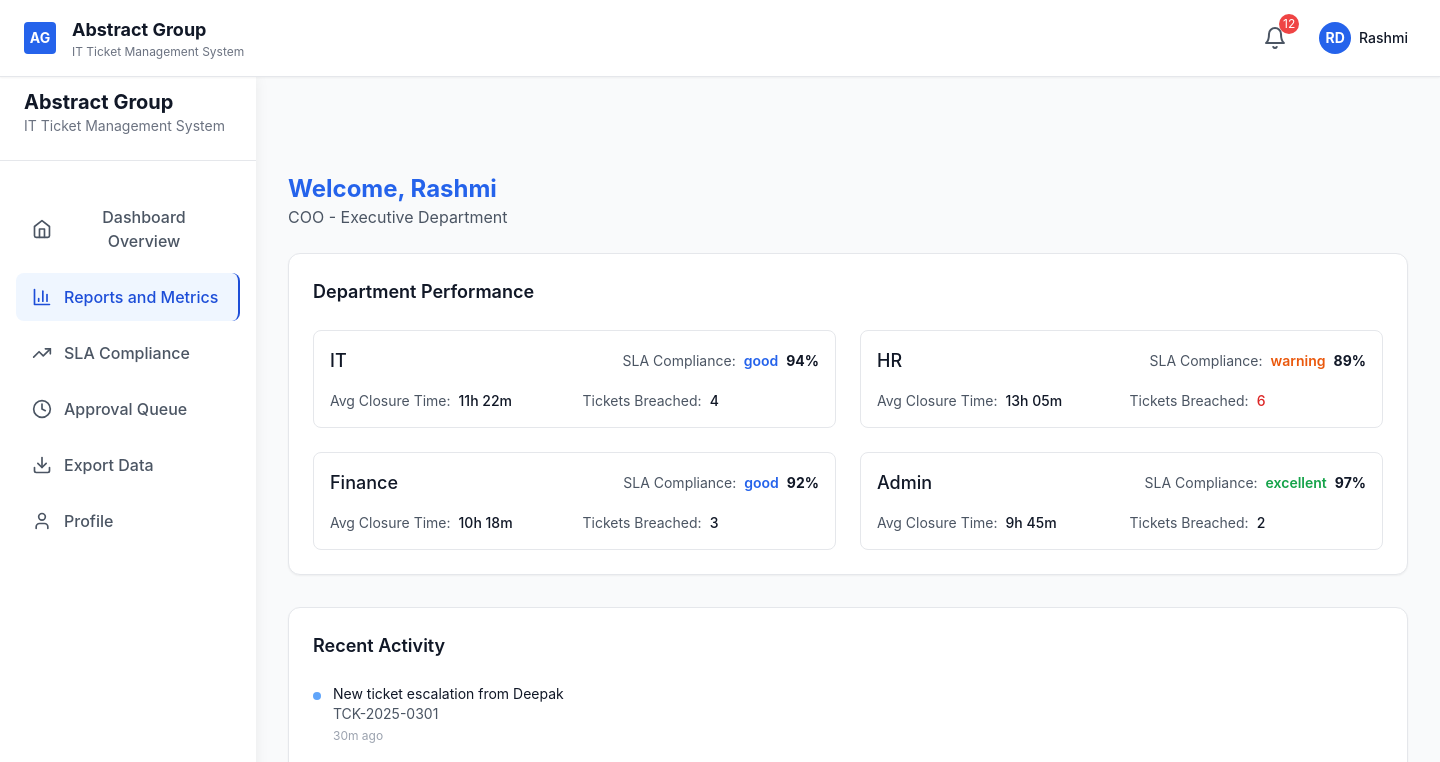
COODashboard - unit tests › drop flow: opens drop modal, requires reason, and removes item after drop
This screenshot has width=1440, height=762.
# Ensure we're in approvals view
Click the button "Approval Queue": point(128, 409) [16, 385, 240, 433]
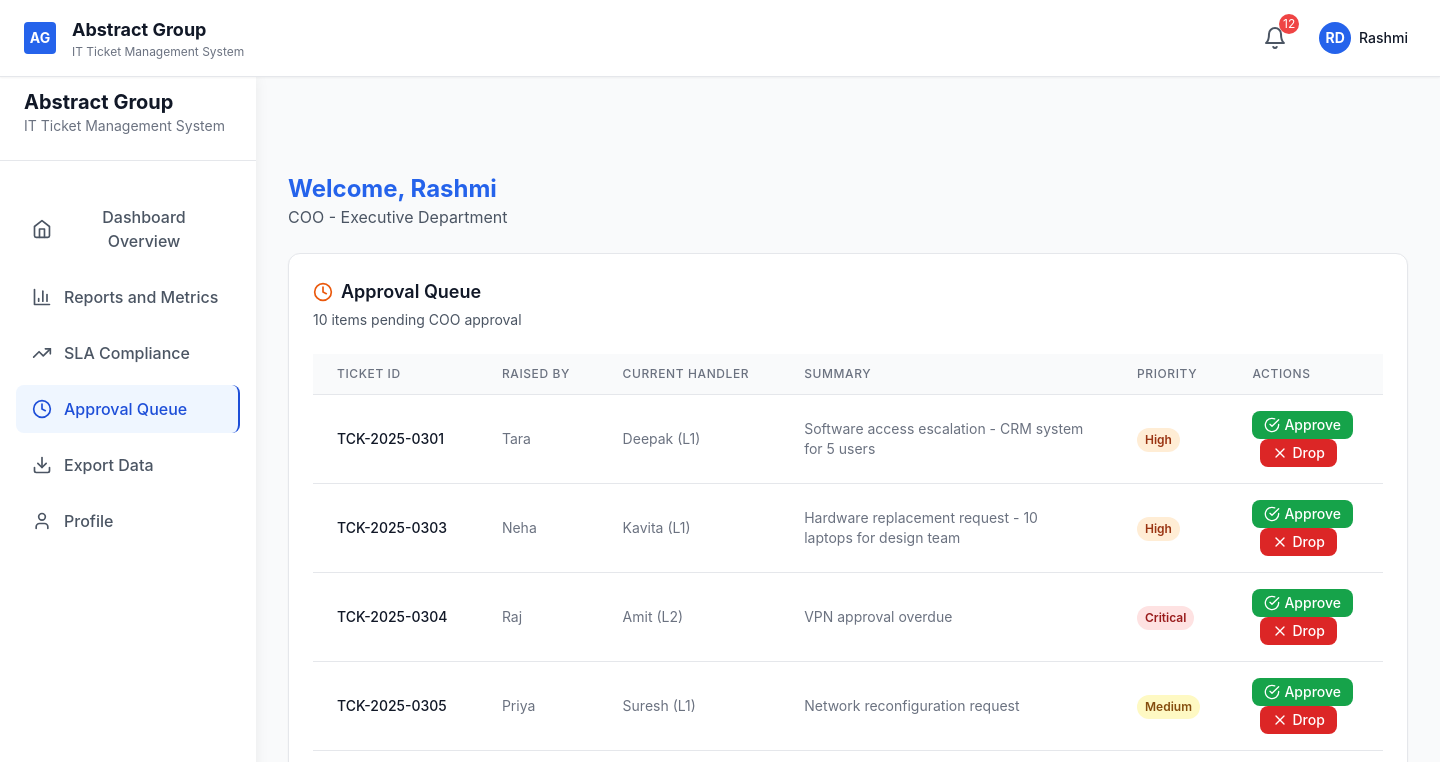
Check: the button "Drop" in the row of "TCK-2025-0301" is shown
# Click first Drop
Click the button "Drop" in the row of "TCK-2025-0301": point(1299, 453) [1260, 439, 1337, 467]
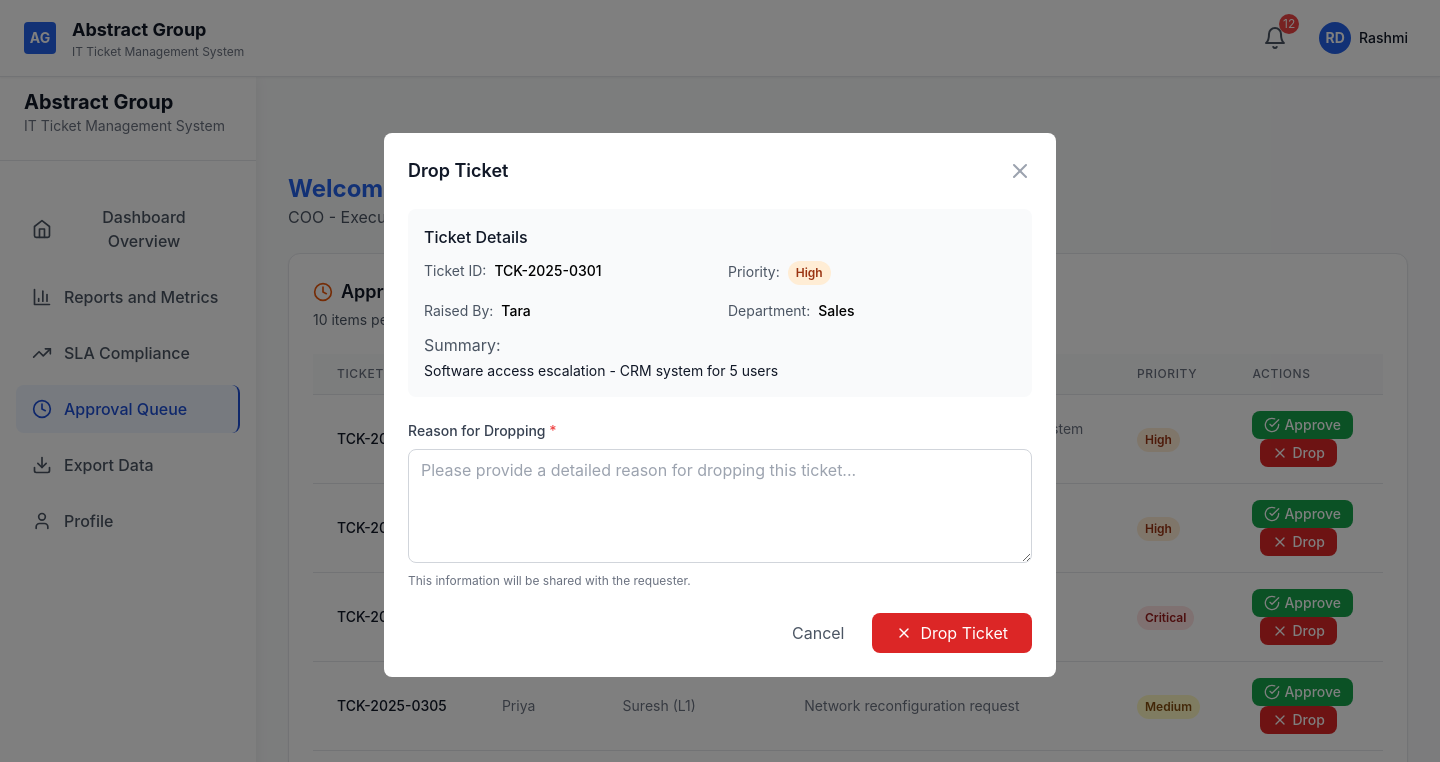
Check: the heading "Drop Ticket" is shown, box [408, 157, 508, 185]
# Provide a rejection reason (textarea inside modal)
In the text box with placeholder "Please provide a detailed reason": point(720, 506) [408, 449, 1032, 563], type "Insufficient details"
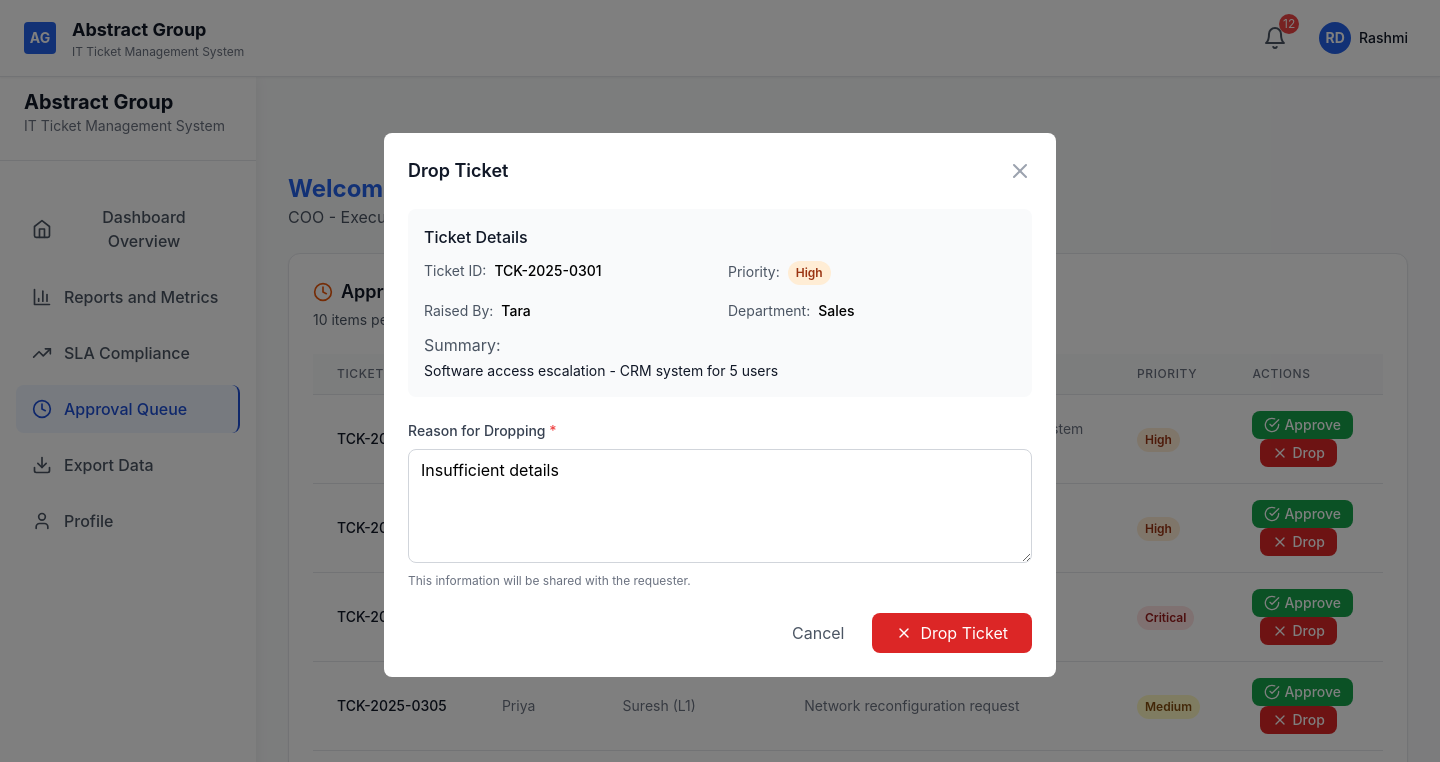
# Click Drop Ticket confirm
Click the button "Drop Ticket": point(952, 633) [872, 613, 1032, 653]
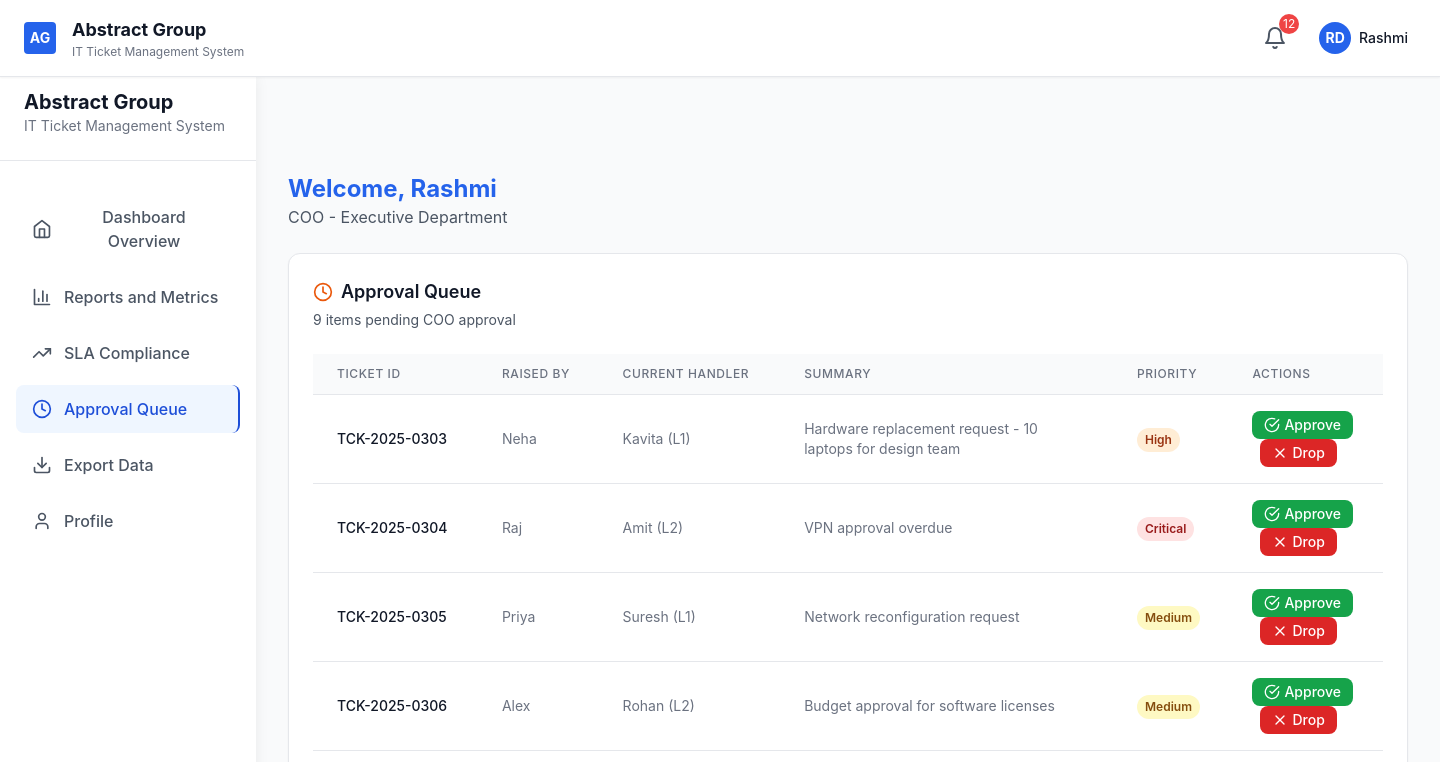
Check: the heading "Drop Ticket" is gone
